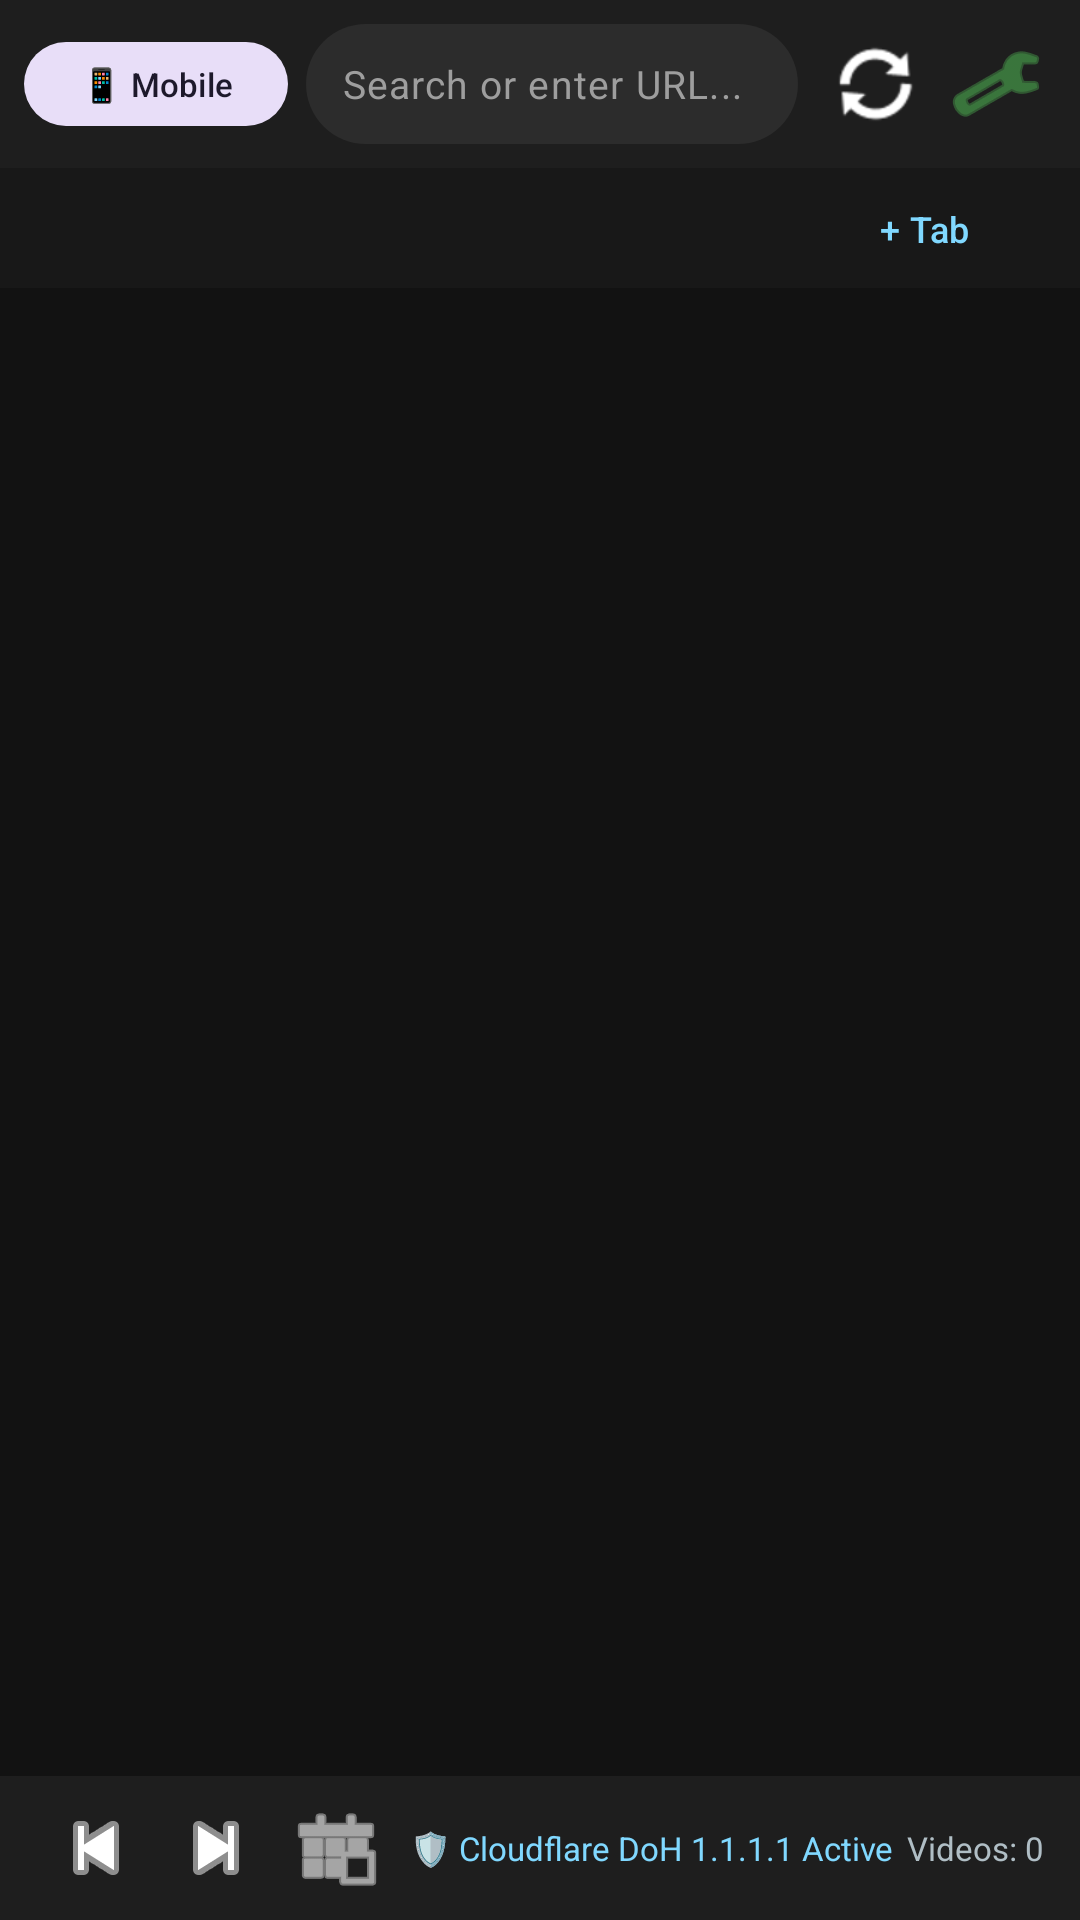

Where icons sit on this 1080x1920 app screen, as (x1, y1, x2, y2):
Back: (73, 1821, 119, 1875)
Forward: (193, 1821, 239, 1875)
Reload Page: (839, 48, 913, 120)
